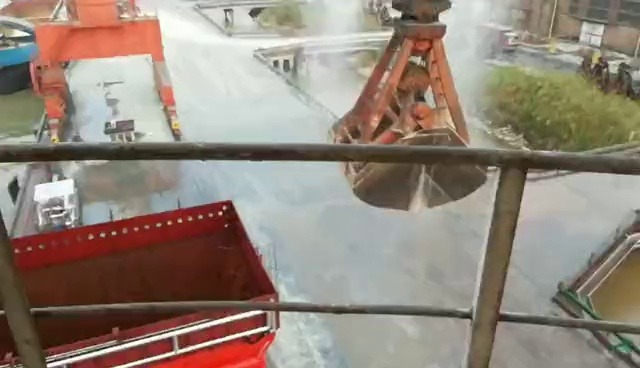grab: (325, 11, 495, 215)
